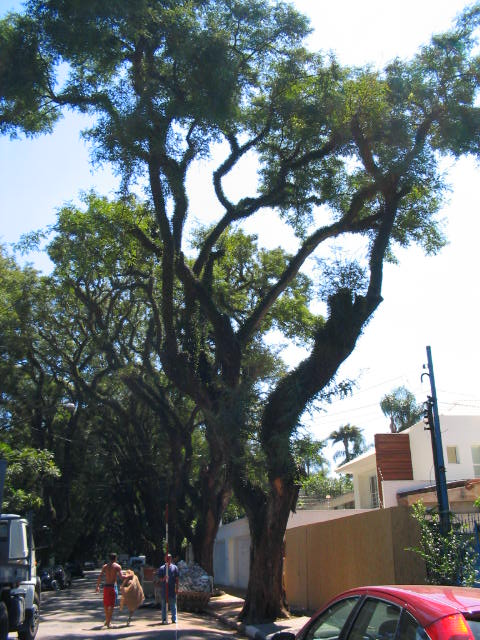crown: (4, 4, 476, 272)
stem: (232, 507, 300, 620)
stick: (158, 504, 175, 625)
tree: (1, 2, 479, 624)
